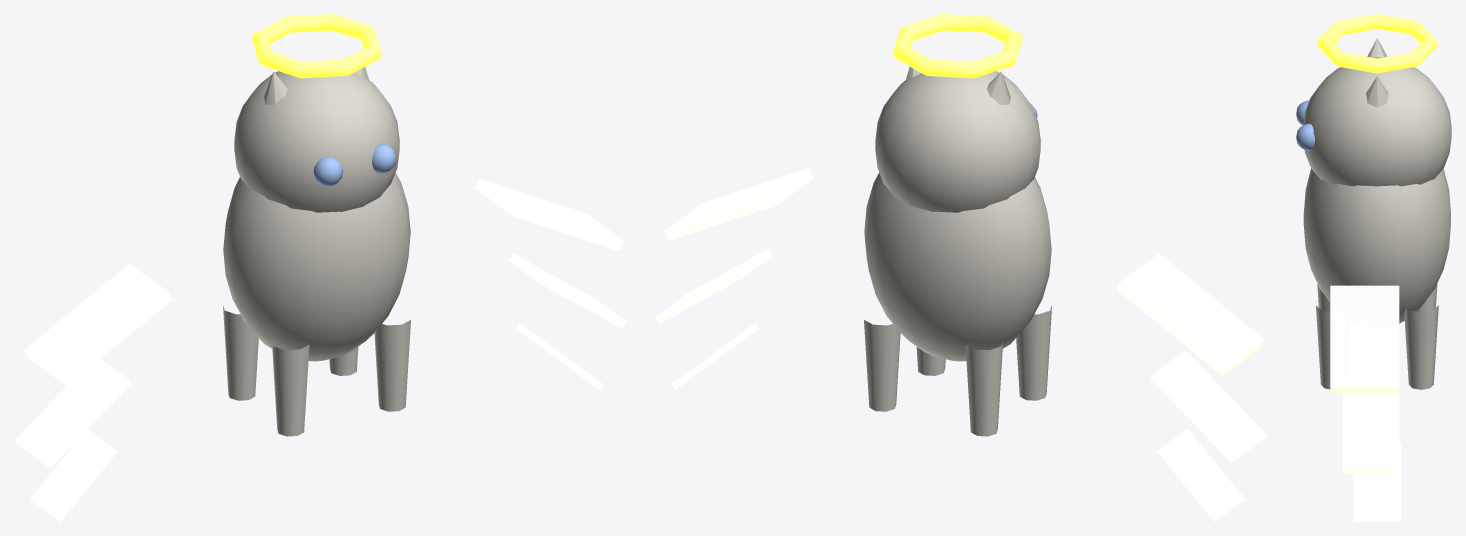
File: cat-angel.glb
3 views of the same model, side by side, from view 1: azimuth 30°, elevation 25°; view 2: azimuth 150°, elevation 25°; view 3: azimuth 270°, elevation 25° (orthographic). The views are drawn at different scales.
Visible parts, largest first — view 1: body, head, wing-up-l, leg--0.42 (×2), wing-mid-l, halo, wing-low-l, wing-up-r, leg-0.42, wing-mid-r, wing-low-r, eye-l; view 2: body, head, wing-up-l, wing-mid-l, leg--0.42 (×2), halo, wing-low-l, wing-up-r, leg-0.42, wing-mid-r, wing-low-r; view 3: body, head, wing-up-r, wing-mid-r, halo, leg-0.42 (×2), wing-low-r, ear-l, leg--0.42 (×2), eye-r, ear-r, eye-l.
Boxes of the visible parts, x1,y1,x2,y2 form: body: [223, 172, 410, 361]; head: [234, 71, 399, 212]; wing-up-l: [24, 264, 172, 385]; leg--0.42 (×2): [223, 305, 309, 436]; wing-mid-l: [14, 358, 131, 468]; halo: [252, 14, 381, 78]; wing-low-l: [30, 429, 117, 521]; wing-up-r: [475, 178, 624, 250]; leg-0.42: [374, 320, 410, 411]; wing-mid-r: [509, 254, 626, 328]; wing-low-r: [516, 323, 603, 389]; eye-l: [313, 157, 343, 186]; body: [864, 172, 1051, 361]; head: [875, 71, 1040, 212]; wing-up-l: [1116, 253, 1264, 375]; wing-mid-l: [1150, 350, 1267, 462]; leg--0.42 (×2): [965, 305, 1051, 436]; halo: [893, 14, 1022, 78]; wing-low-l: [1157, 429, 1244, 521]; wing-up-r: [665, 168, 813, 240]; leg-0.42: [864, 320, 900, 411]; wing-mid-r: [655, 249, 772, 323]; wing-low-r: [671, 323, 758, 389]; body: [1303, 168, 1450, 323]; head: [1303, 57, 1451, 186]; wing-up-r: [1330, 285, 1399, 392]; wing-mid-r: [1343, 393, 1399, 473]; halo: [1317, 14, 1437, 73]; leg-0.42 (×2): [1316, 305, 1438, 389]; wing-low-r: [1353, 444, 1401, 521]; ear-l: [1365, 76, 1388, 107]; leg--0.42 (×2): [1317, 284, 1437, 312]; eye-r: [1296, 123, 1314, 150]; ear-r: [1367, 38, 1387, 57]; eye-l: [1296, 100, 1309, 125].
Size of the model in its own units: 4.8 by 3.22 by 1.24.
